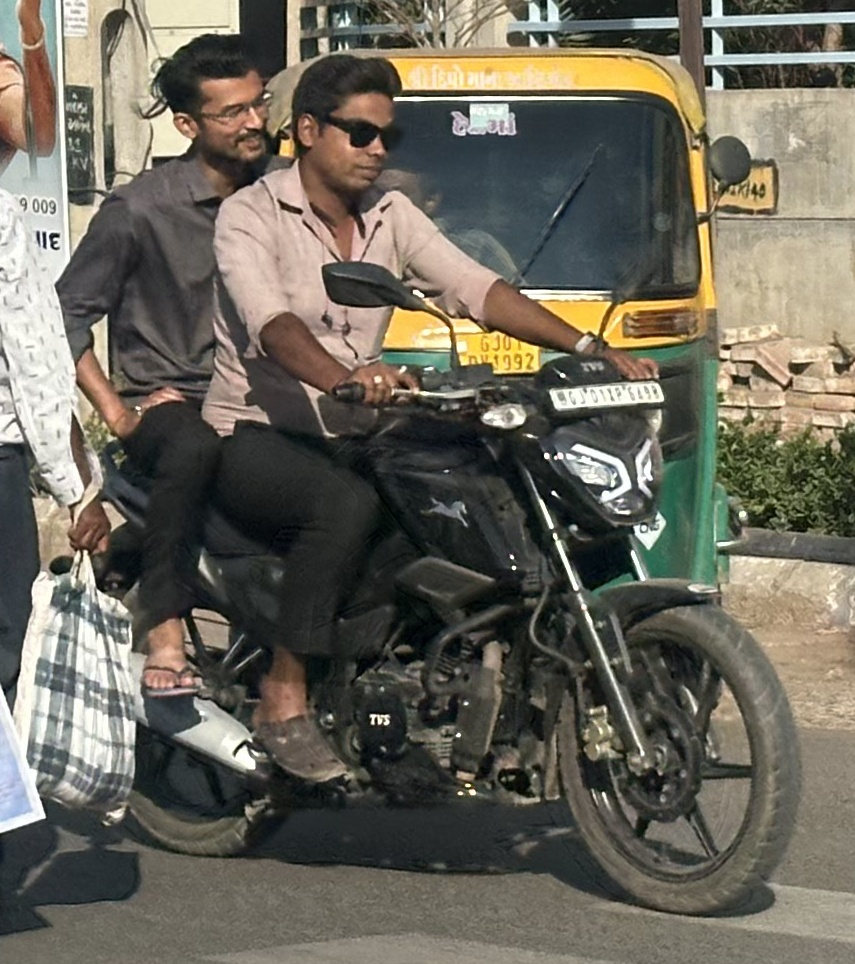BikeWithRider: (33, 23, 821, 925)
NoHelmet: (140, 26, 287, 184), (276, 45, 416, 203)
